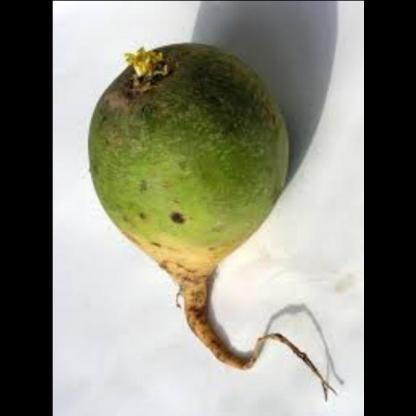redka: (84, 40, 296, 336)
